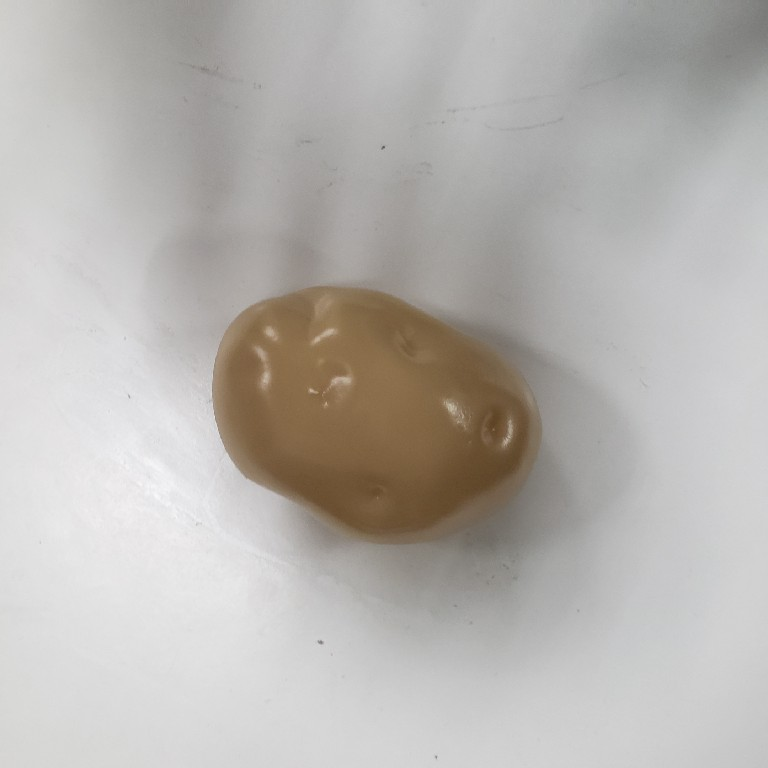fruit_potato: (204, 279, 549, 547)
